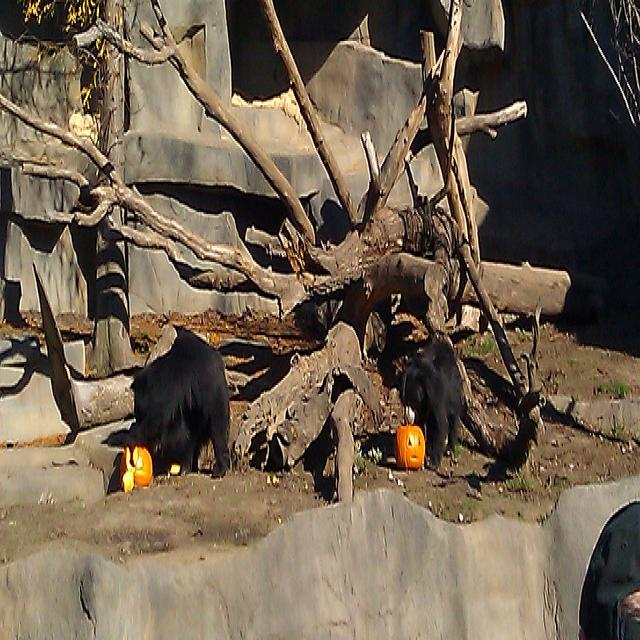Bear: (122, 328, 240, 480), (393, 332, 473, 484)
